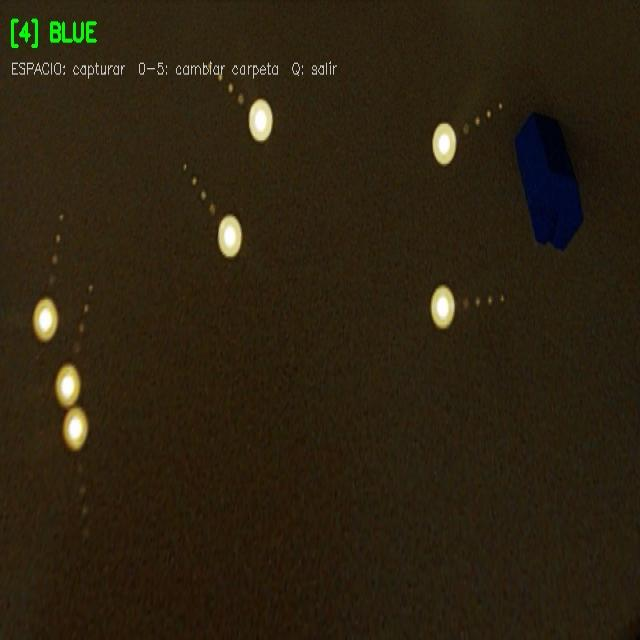blue: (512, 108, 583, 251)
